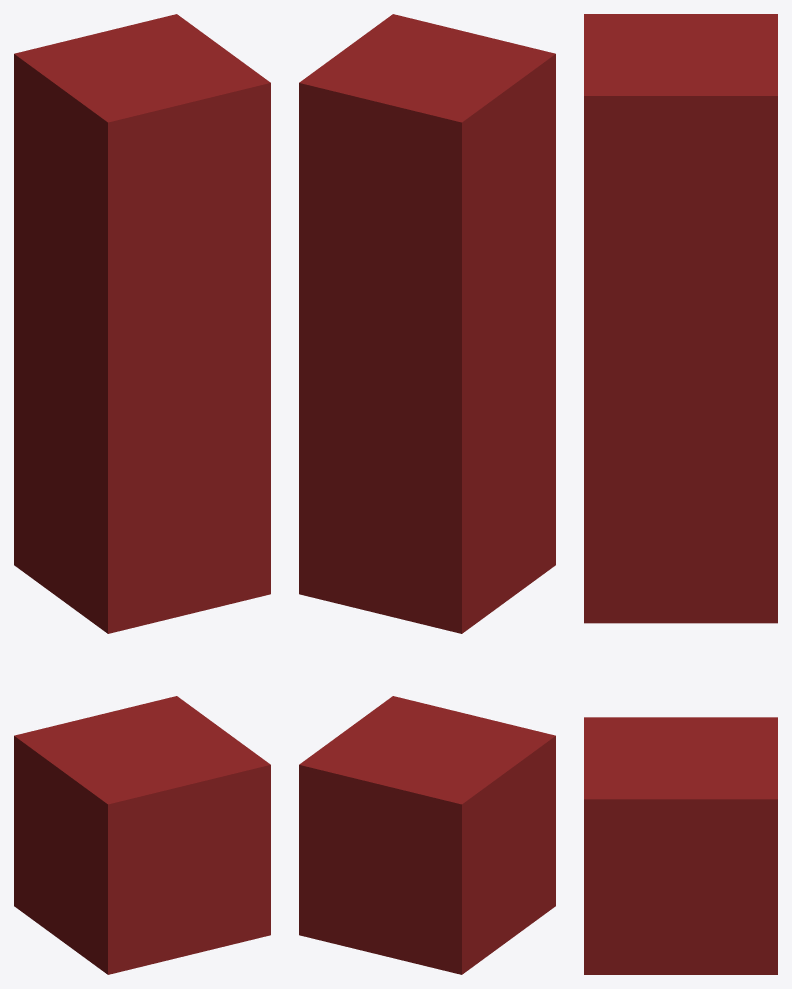
Rendered from Exclamacion.obj.
The picture shows the model from 3 angles, left to right: view 1: azimuth 30°, elevation 25°; view 2: azimuth 150°, elevation 25°; view 3: azimuth 270°, elevation 25°; orthographic projection. The views are drawn at different scales.
Visible parts, largest first — view 1: Model; view 2: Model; view 3: Model.
Part boxes in pixels (x1,y1,x2,y2): Model: (14,14,270,974); Model: (299,14,555,974); Model: (584,14,777,974).
Size of the model in its own units: 3.56 by 17.78 by 3.56.
1 material, 1 textured.
